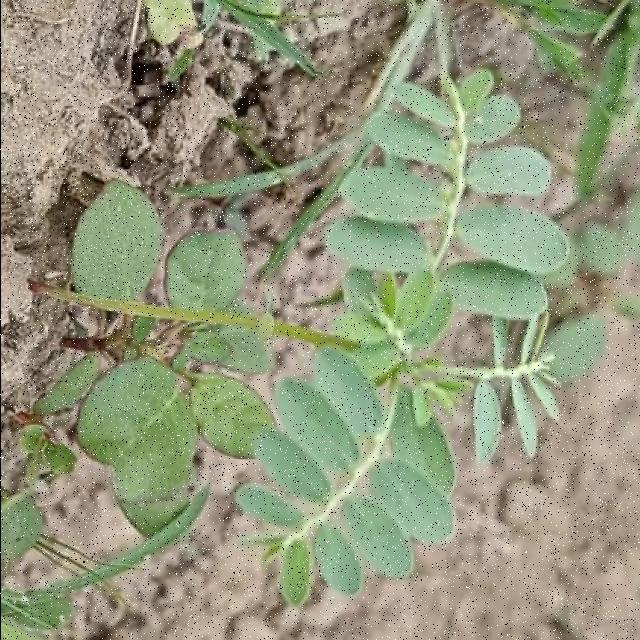weed: (31, 0, 590, 607)
